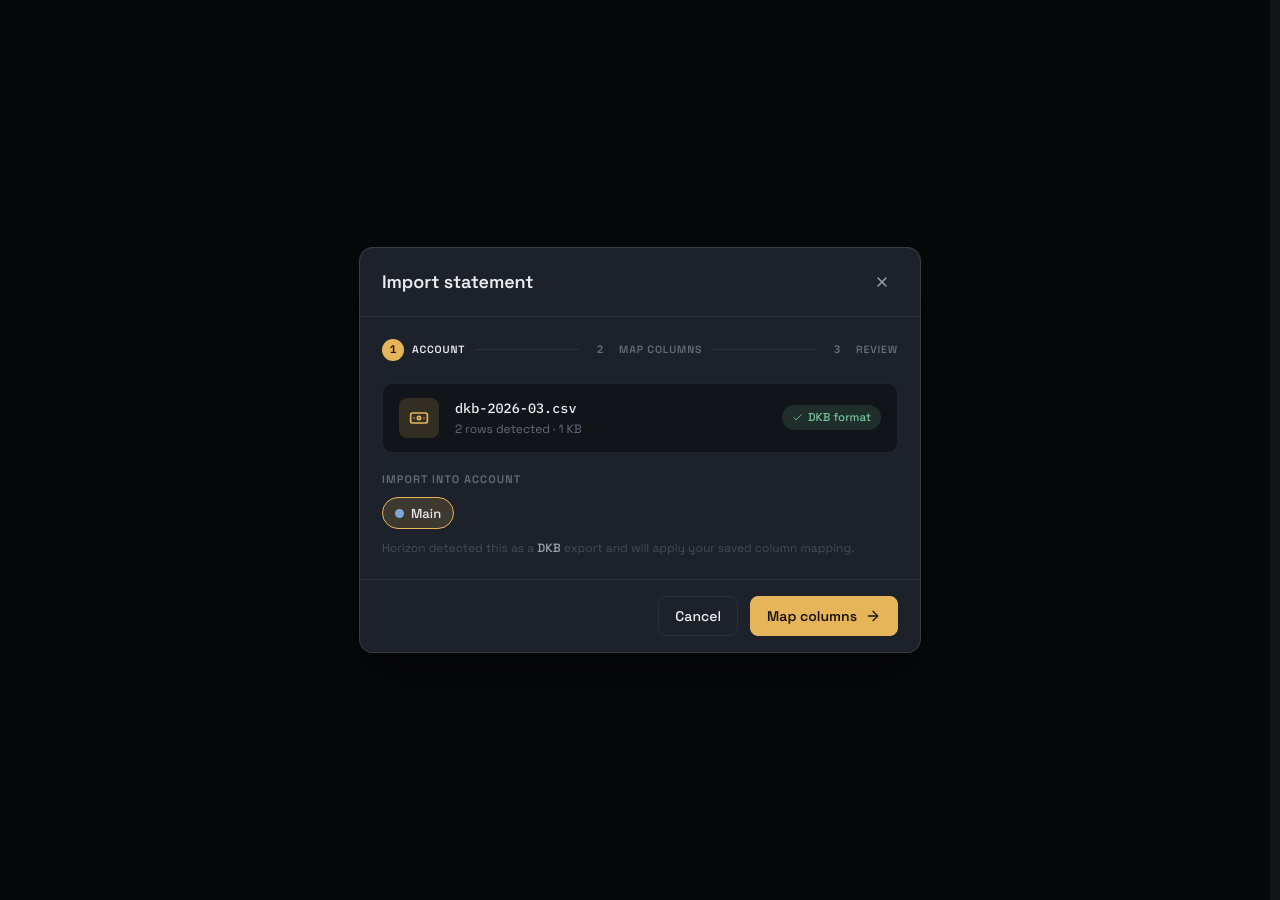
it: ImportWizard — editable description and blockers (#190) › lets the user uncheck a row they can't describe, which dims it and drops its error state
Click the button "Map columns": {"x": 824, "y": 616} left=750, top=596, right=898, bottom=636
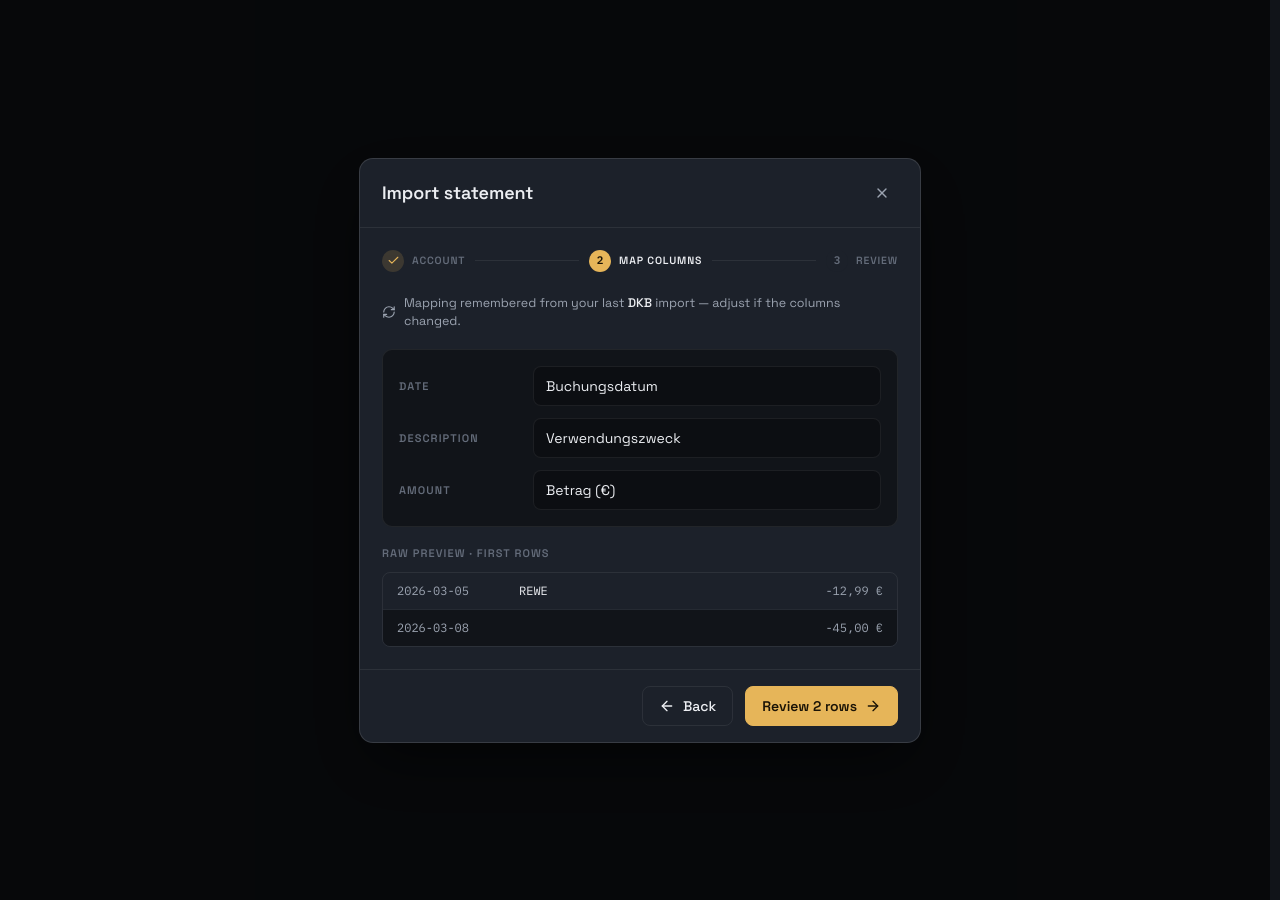
Click the button "Review 2 rows": {"x": 822, "y": 706} left=745, top=686, right=898, bottom=726
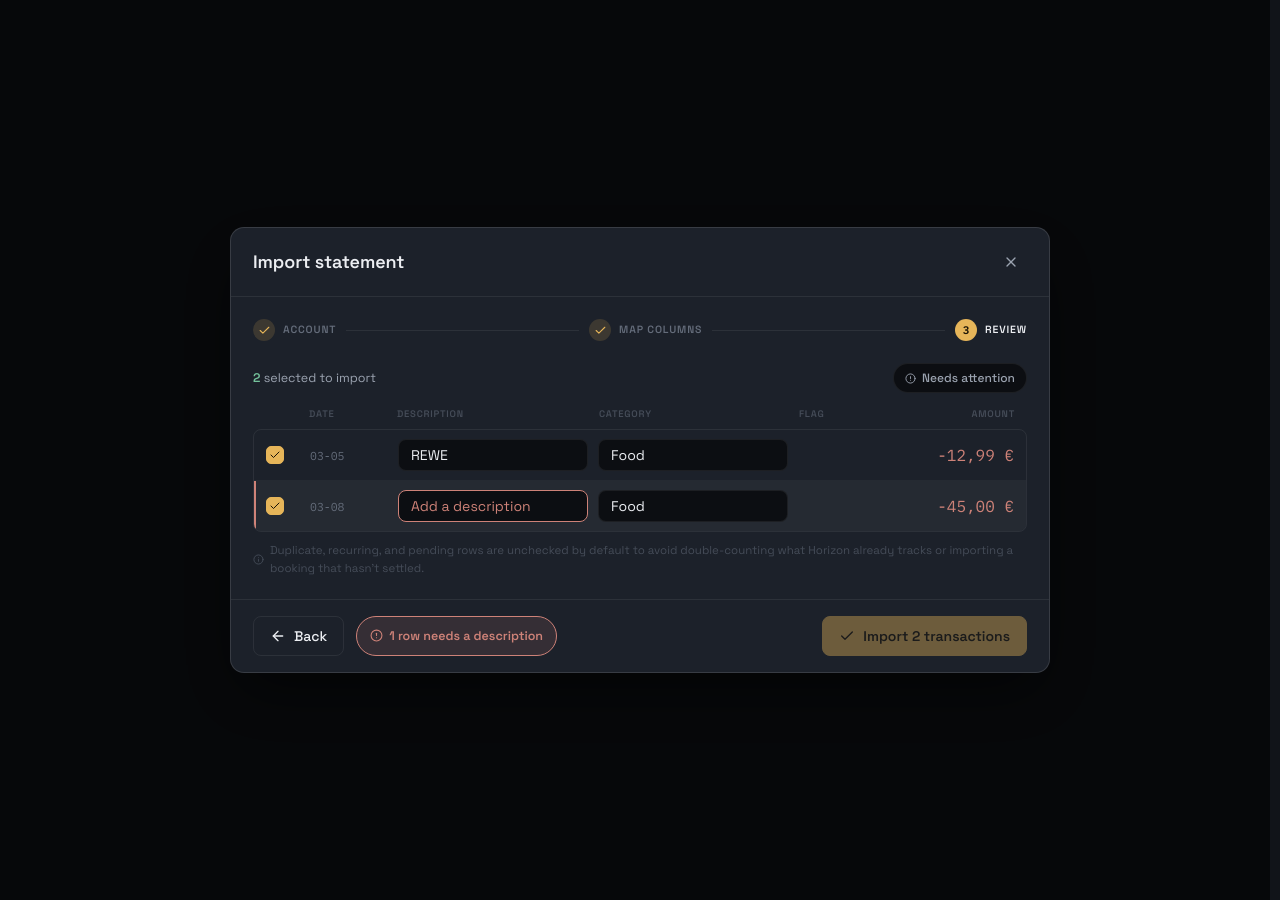
Click the button named "toggle" next to "03-08": {"x": 275, "y": 506} left=266, top=497, right=284, bottom=515
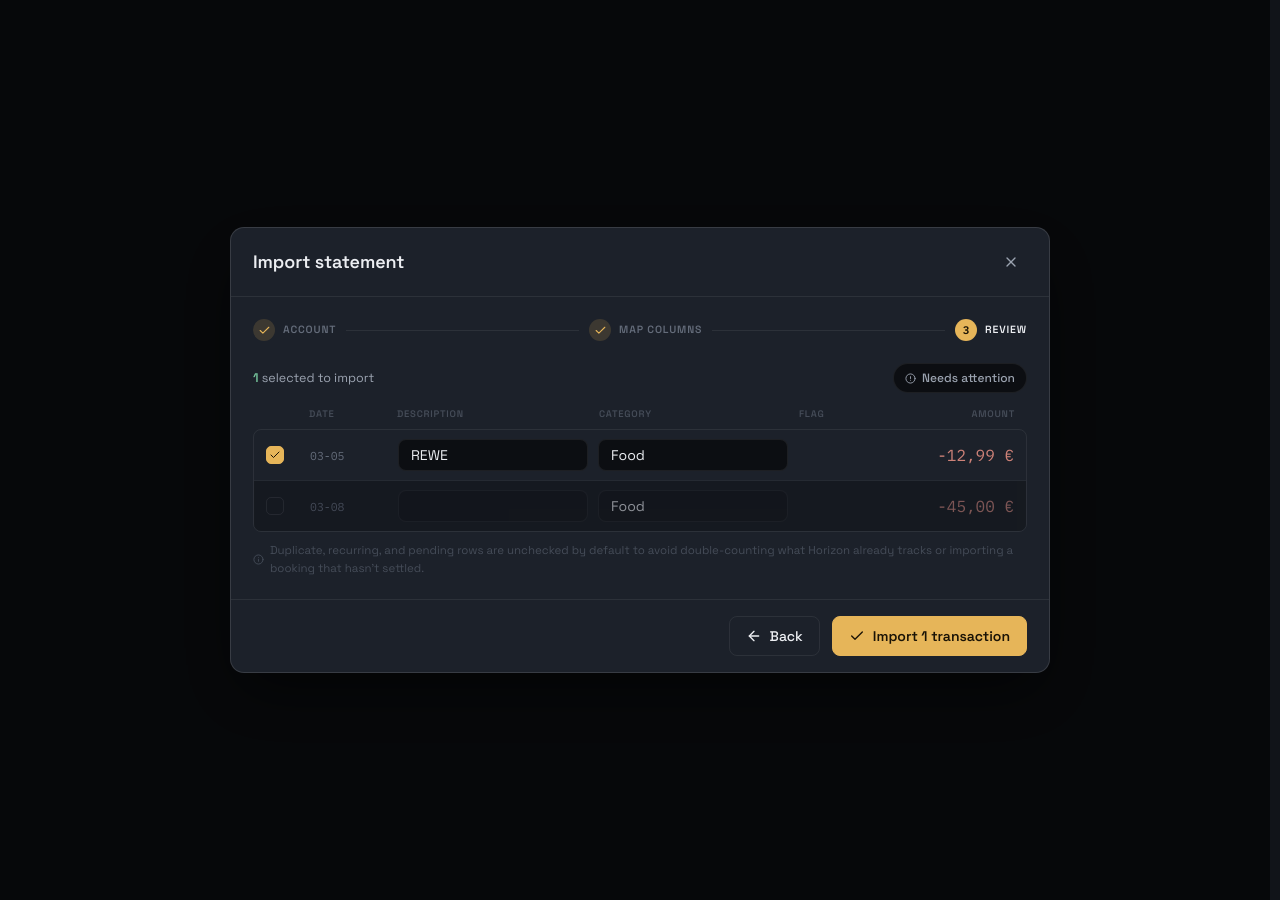
Check: the button "Import 1 transaction" is enabled, box left=832, top=616, right=1027, bottom=656
